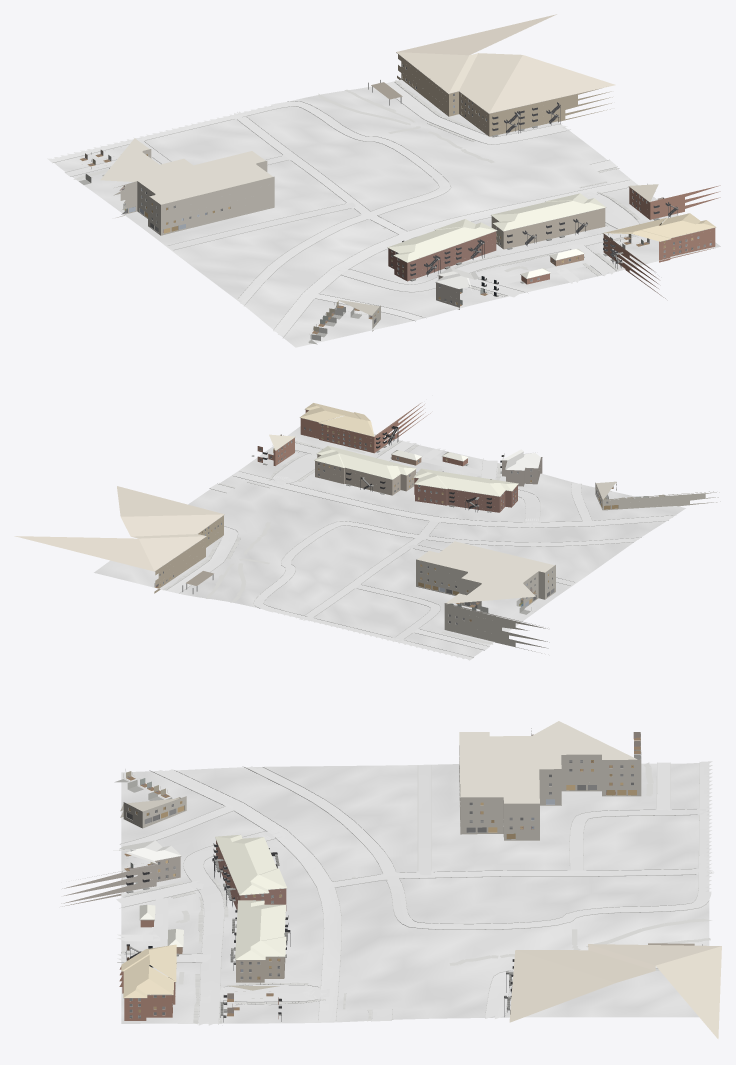
The picture shows the model from 3 angles, top to bottom: view 1: azimuth 30°, elevation 25°; view 2: azimuth 150°, elevation 25°; view 3: azimuth 270°, elevation 25°; orthographic projection. The views are drawn at different scales.
Visible parts, largest first — view 1: ground, roof, concrete, wall, roof_flat, wall_com, curb, asphalt, walk, detail, room, rail; view 2: ground, roof, concrete, wall, wall_com, roof_flat, curb, asphalt, walk, detail, glass, glass_lit (+1 smaller); view 3: ground, concrete, roof, roof_flat, wall_com, wall, asphalt, curb, walk, detail, room, glass (+1 smaller).
Boxes of the visible parts, box(x1,y1,x2,y2) form: ground: box(53, 79, 720, 347); roof: box(387, 14, 715, 289); concrete: box(47, 82, 664, 320); wall: box(388, 54, 720, 309); roof_flat: box(100, 82, 402, 315); wall_com: box(113, 79, 401, 331); curb: box(52, 82, 639, 337); asphalt: box(273, 180, 635, 335); walk: box(73, 80, 678, 296); detail: box(82, 52, 715, 341); room: box(79, 150, 710, 344); rail: box(402, 102, 677, 290); ground: box(94, 426, 685, 658); roof: box(14, 403, 540, 571); concrete: box(167, 441, 638, 660); wall: box(154, 403, 542, 593); wall_com: box(182, 482, 720, 653); roof_flat: box(186, 481, 616, 603); curb: box(167, 440, 674, 657); asphalt: box(233, 471, 672, 527); walk: box(163, 441, 501, 644); detail: box(155, 409, 657, 624); glass: box(159, 424, 608, 624); glass_lit: box(159, 425, 618, 621); ground: box(121, 763, 709, 1023); concrete: box(116, 761, 713, 1025); roof: box(113, 834, 721, 1038); roof_flat: box(127, 721, 694, 945); wall_com: box(120, 728, 702, 945); wall: box(61, 840, 286, 1020); asphalt: box(155, 769, 341, 1021); curb: box(117, 762, 709, 1024); walk: box(121, 762, 713, 1024); detail: box(78, 734, 641, 1022); room: box(114, 732, 640, 1016); glass: box(127, 760, 633, 1018).
Size of the model in its own units: 339 by 23.58 by 301.
